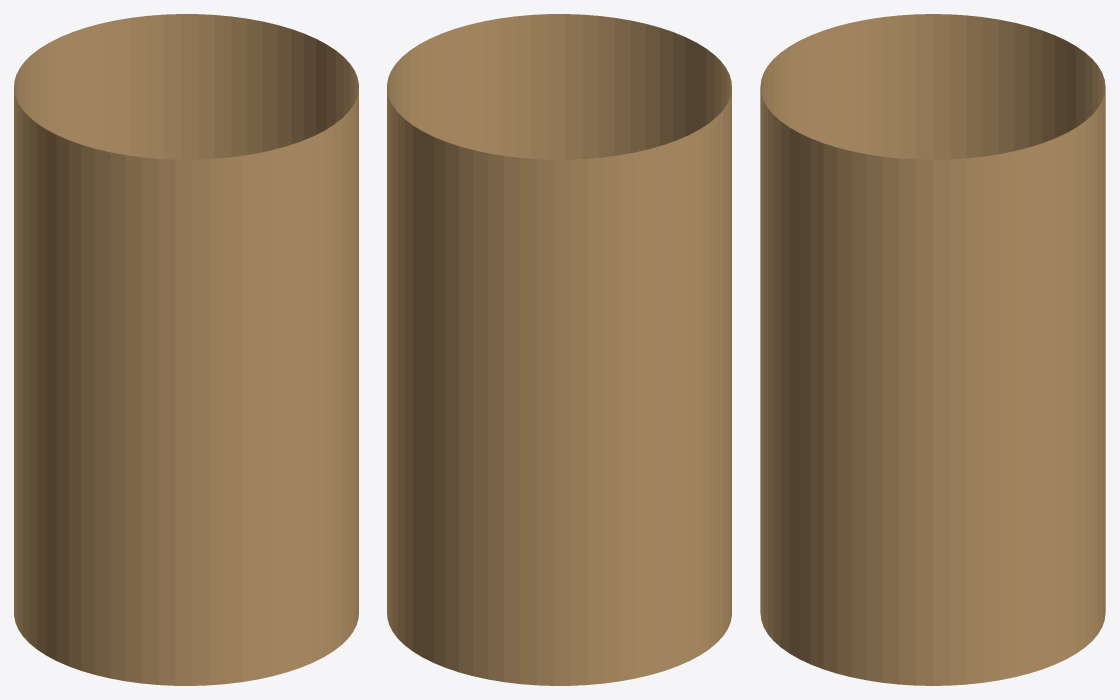
Rendered from board.glb.
The picture shows the model from 3 angles, left to right: view 1: azimuth 30°, elevation 25°; view 2: azimuth 150°, elevation 25°; view 3: azimuth 270°, elevation 25°; orthographic projection.
Parts seen in each view (by area): view 1: Bare_Tube_0; view 2: Bare_Tube_0; view 3: Bare_Tube_0.
Part boxes in pixels (x1,y1,x2,y2): Bare_Tube_0: [14, 14, 358, 685]; Bare_Tube_0: [387, 14, 731, 685]; Bare_Tube_0: [760, 14, 1105, 685].
Size of the model in its own units: 0.00095 by 0.0016 by 0.00095.
